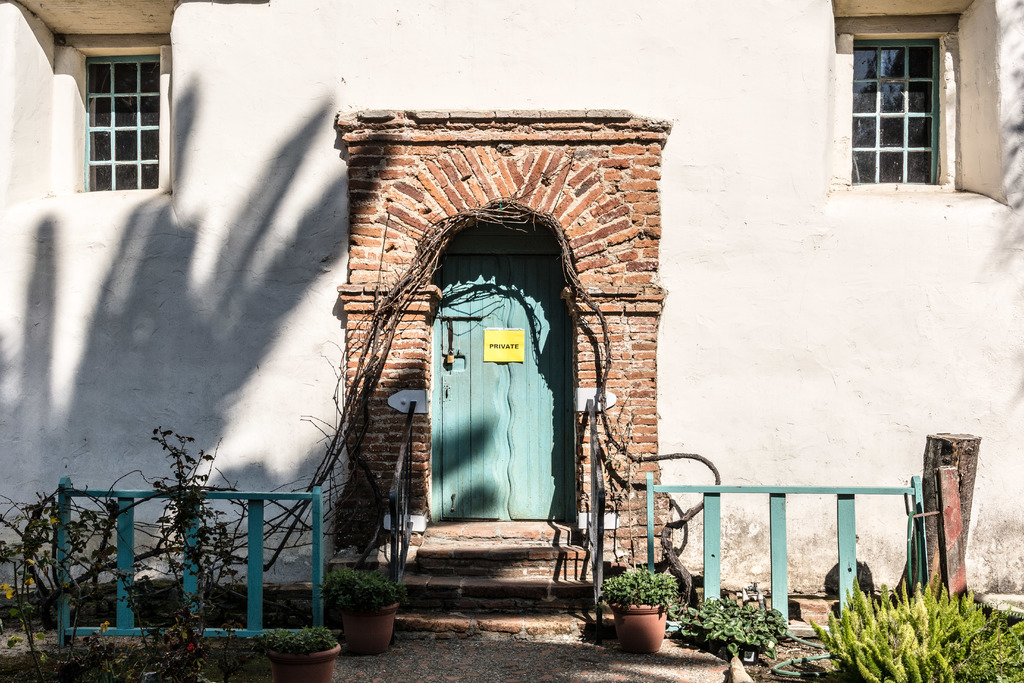door: (436, 272, 508, 508), (508, 279, 574, 527)
